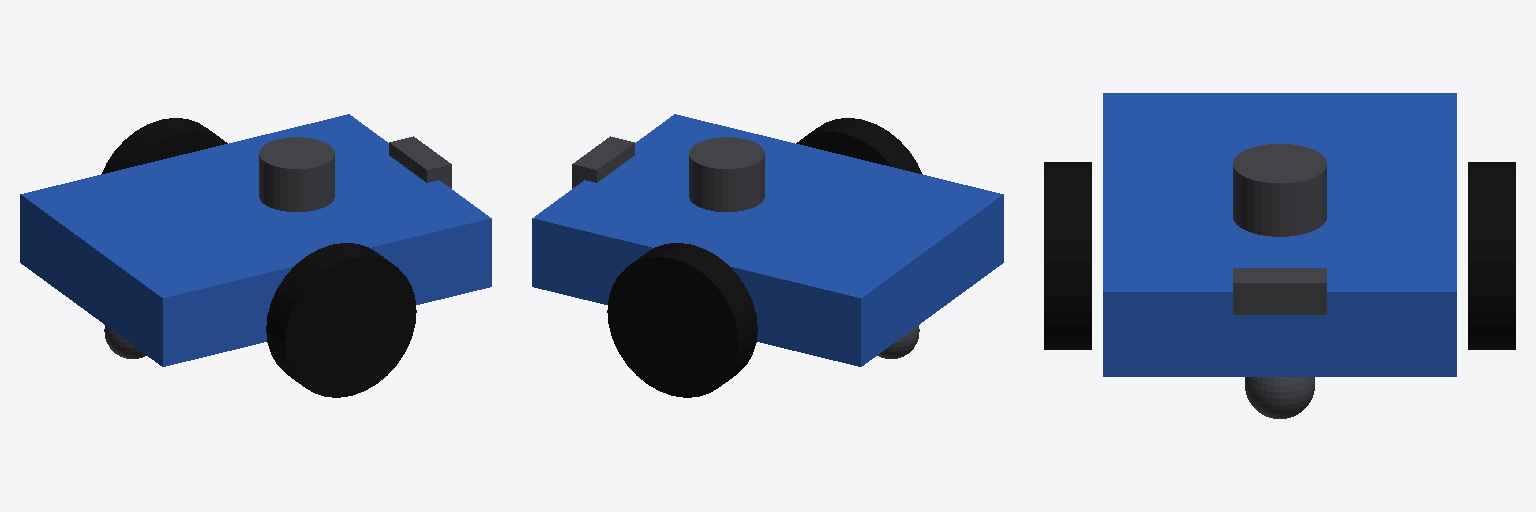
URDF robot description (diff_bot):
<?xml version="1.0"?>
<!-- Differential-drive mobile robot. Wheels: continuous joints about +Y
     (positive velocity = forward). Two passive caster spheres. -->
<robot name="diff_bot">
  <material name="body_blue"><color rgba="0.20 0.40 0.75 1"/></material>
  <material name="tire"><color rgba="0.10 0.10 0.10 1"/></material>
  <material name="sensor_grey"><color rgba="0.30 0.30 0.32 1"/></material>

  <link name="base_footprint"/>

  <joint name="base_footprint_joint" type="fixed">
    <parent link="base_footprint"/>
    <child link="base_link"/>
    <origin xyz="0 0 0.08" rpy="0 0 0"/>
  </joint>

  <link name="base_link">
    <inertial>
      <origin xyz="0 0 0.02"/>
      <mass value="4.0"/>
      <inertia ixx="0.033" ixy="0" ixz="0" iyy="0.057" iyz="0" izz="0.083"/>
    </inertial>
    <visual>
      <origin xyz="0 0 0.02"/>
      <geometry><box size="0.40 0.30 0.08"/></geometry>
      <material name="body_blue"/>
    </visual>
    <collision>
      <origin xyz="0 0 0.02"/>
      <geometry><box size="0.40 0.30 0.08"/></geometry>
    </collision>
  </link>

  <link name="left_wheel">
    <inertial>
      <mass value="0.3"/>
      <inertia ixx="0.0005" ixy="0" ixz="0" iyy="0.0008" iyz="0" izz="0.0005"/>
    </inertial>
    <visual>
      <origin xyz="0 0 0" rpy="1.5707963 0 0"/>
      <geometry><cylinder radius="0.08" length="0.04"/></geometry>
      <material name="tire"/>
    </visual>
    <collision>
      <origin xyz="0 0 0" rpy="1.5707963 0 0"/>
      <geometry><cylinder radius="0.08" length="0.04"/></geometry>
    </collision>
  </link>
  <joint name="left_wheel_joint" type="continuous">
    <parent link="base_link"/>
    <child link="left_wheel"/>
    <origin xyz="0 0.18 0" rpy="0 0 0"/>
    <axis xyz="0 1 0"/>
    <limit effort="5.0" velocity="20.0"/>
    <dynamics damping="0.01" friction="0.0"/>
  </joint>

  <link name="right_wheel">
    <inertial>
      <mass value="0.3"/>
      <inertia ixx="0.0005" ixy="0" ixz="0" iyy="0.0008" iyz="0" izz="0.0005"/>
    </inertial>
    <visual>
      <origin xyz="0 0 0" rpy="1.5707963 0 0"/>
      <geometry><cylinder radius="0.08" length="0.04"/></geometry>
      <material name="tire"/>
    </visual>
    <collision>
      <origin xyz="0 0 0" rpy="1.5707963 0 0"/>
      <geometry><cylinder radius="0.08" length="0.04"/></geometry>
    </collision>
  </link>
  <joint name="right_wheel_joint" type="continuous">
    <parent link="base_link"/>
    <child link="right_wheel"/>
    <origin xyz="0 -0.18 0" rpy="0 0 0"/>
    <axis xyz="0 1 0"/>
    <limit effort="5.0" velocity="20.0"/>
    <dynamics damping="0.01" friction="0.0"/>
  </joint>

  <link name="front_caster">
    <inertial>
      <mass value="0.05"/>
      <inertia ixx="0.00001" ixy="0" ixz="0" iyy="0.00001" iyz="0" izz="0.00001"/>
    </inertial>
    <visual><geometry><sphere radius="0.03"/></geometry><material name="sensor_grey"/></visual>
    <collision><geometry><sphere radius="0.03"/></geometry></collision>
  </link>
  <joint name="front_caster_joint" type="fixed">
    <parent link="base_link"/>
    <child link="front_caster"/>
    <origin xyz="0.15 0 -0.05"/>
  </joint>

  <link name="rear_caster">
    <inertial>
      <mass value="0.05"/>
      <inertia ixx="0.00001" ixy="0" ixz="0" iyy="0.00001" iyz="0" izz="0.00001"/>
    </inertial>
    <visual><geometry><sphere radius="0.03"/></geometry><material name="sensor_grey"/></visual>
    <collision><geometry><sphere radius="0.03"/></geometry></collision>
  </link>
  <joint name="rear_caster_joint" type="fixed">
    <parent link="base_link"/>
    <child link="rear_caster"/>
    <origin xyz="-0.15 0 -0.05"/>
  </joint>

  <!-- Sensor mounting links (sensors are attached in the simulator) -->
  <link name="lidar_mount">
    <inertial>
      <mass value="0.1"/>
      <inertia ixx="0.00005" ixy="0" ixz="0" iyy="0.00005" iyz="0" izz="0.00005"/>
    </inertial>
    <visual><geometry><cylinder radius="0.04" length="0.05"/></geometry><material name="sensor_grey"/></visual>
    <collision><geometry><cylinder radius="0.04" length="0.05"/></geometry></collision>
  </link>
  <joint name="lidar_mount_joint" type="fixed">
    <parent link="base_link"/>
    <child link="lidar_mount"/>
    <origin xyz="0.05 0 0.085"/>
  </joint>

  <link name="camera_mount">
    <inertial>
      <mass value="0.05"/>
      <inertia ixx="0.00001" ixy="0" ixz="0" iyy="0.00001" iyz="0" izz="0.00001"/>
    </inertial>
    <visual><geometry><box size="0.03 0.08 0.03"/></geometry><material name="sensor_grey"/></visual>
  </link>
  <joint name="camera_mount_joint" type="fixed">
    <parent link="base_link"/>
    <child link="camera_mount"/>
    <origin xyz="0.2 0 0.06"/>
  </joint>
</robot>

--- Facts derived from the render (not from the file) ---
The picture shows the robot from 3 angles, left to right: view 1: azimuth 30°, elevation 25°; view 2: azimuth 150°, elevation 25°; view 3: azimuth 270°, elevation 25°; orthographic projection.
Robot: diff_bot — 8 links, 7 joints (2 continuous, 5 fixed); root link base_footprint; default pose: all joints at 0.
Visible links, largest first — view 1: base_link, right_wheel, lidar_mount, left_wheel, camera_mount, rear_caster; view 2: base_link, left_wheel, lidar_mount, right_wheel, camera_mount, rear_caster; view 3: base_link, left_wheel, right_wheel, lidar_mount, camera_mount, front_caster.
Boxes of the visible links, box(x1,y1,x2,y2) form: base_link: box(20, 114, 491, 366); right_wheel: box(266, 243, 416, 397); lidar_mount: box(259, 137, 334, 211); left_wheel: box(101, 118, 227, 174); camera_mount: box(389, 136, 451, 188); rear_caster: box(104, 325, 146, 358); base_link: box(532, 114, 1003, 366); left_wheel: box(607, 243, 757, 397); lidar_mount: box(689, 137, 764, 211); right_wheel: box(796, 118, 922, 174); camera_mount: box(572, 136, 634, 188); rear_caster: box(877, 325, 919, 358); base_link: box(1103, 93, 1456, 376); left_wheel: box(1468, 162, 1515, 349); right_wheel: box(1044, 162, 1091, 349); lidar_mount: box(1233, 144, 1326, 236); camera_mount: box(1233, 268, 1326, 314); front_caster: box(1245, 377, 1314, 418).
Size in the robot's own frame: 0.415 by 0.4 by 0.19 metres.
Geometry: primitives only (box / cylinder / sphere), no mesh files.
